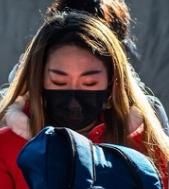OK: (43, 60, 108, 131)
